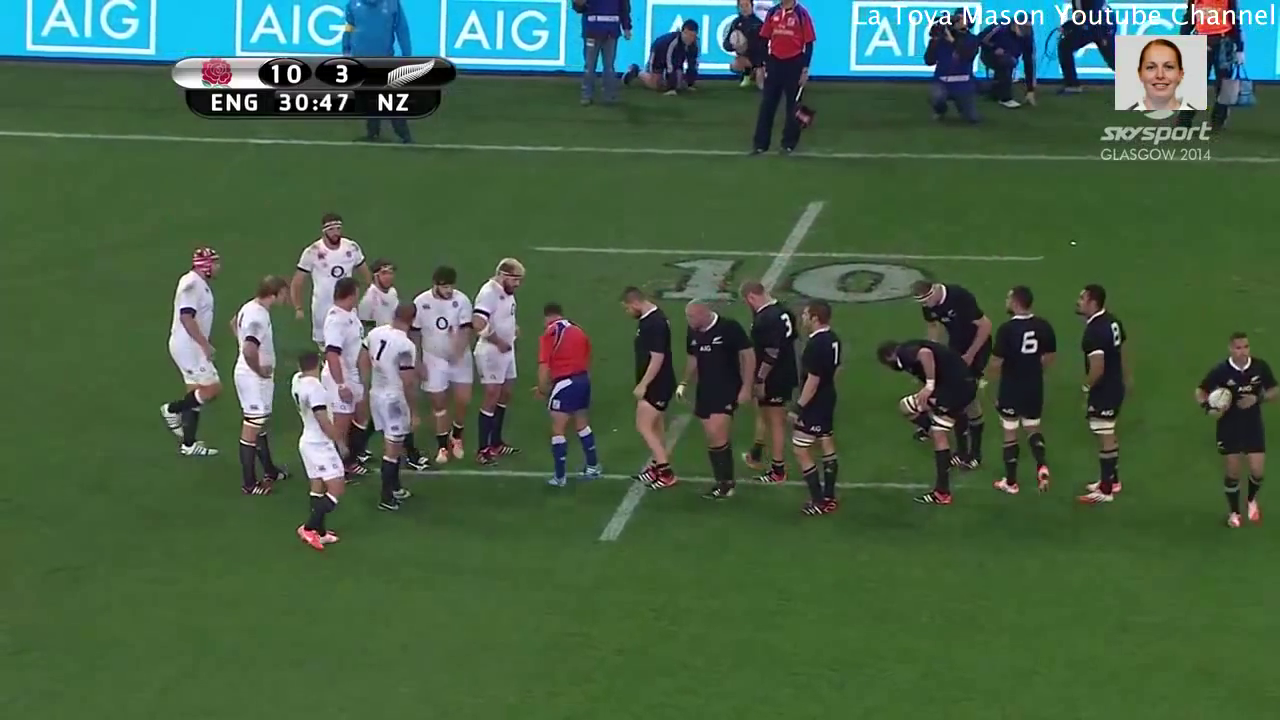10_metre: (378, 400, 946, 560), (526, 189, 1057, 324)
ball: (1197, 377, 1245, 429)
player: (871, 329, 992, 521), (1184, 324, 1280, 545), (148, 236, 233, 462), (908, 268, 993, 484), (979, 268, 1056, 505), (217, 267, 293, 503), (522, 294, 609, 496), (784, 292, 856, 534), (1061, 277, 1134, 509), (672, 292, 747, 514), (353, 292, 425, 522), (457, 244, 527, 475), (611, 279, 684, 500), (279, 340, 352, 560), (303, 264, 372, 479), (735, 268, 797, 495), (409, 257, 473, 468), (287, 199, 368, 347), (348, 248, 402, 336)
